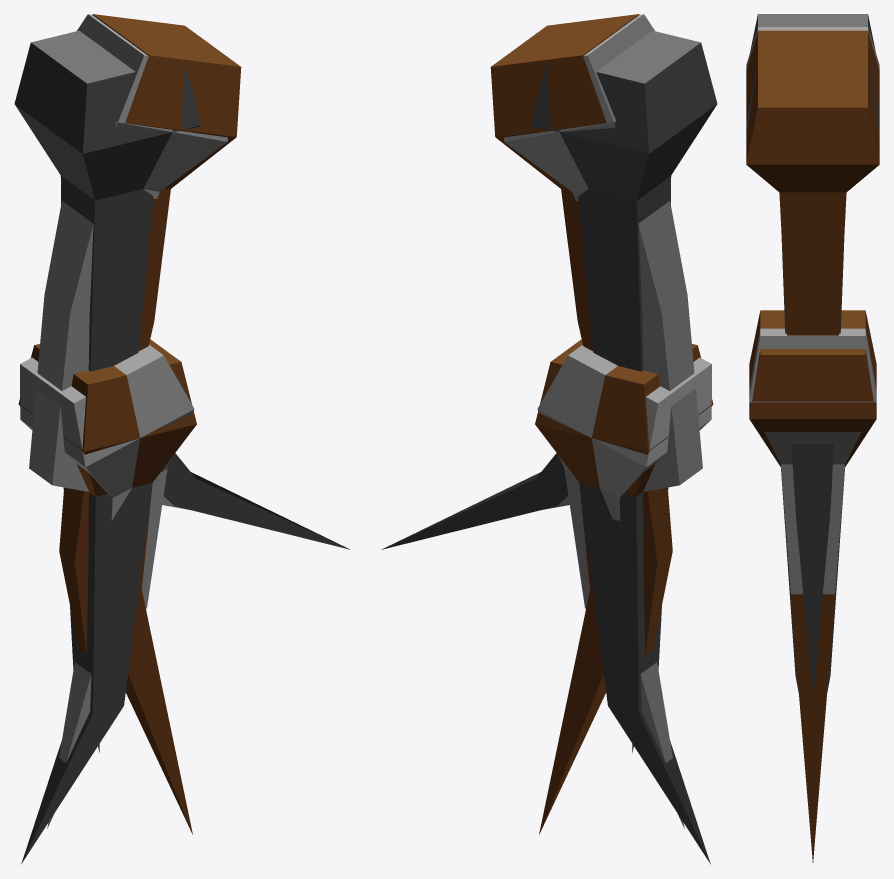
File: Snag_G.fbx
3 views of the same model, side by side, from view 1: azimuth 30°, elevation 25°; view 2: azimuth 150°, elevation 25°; view 3: azimuth 270°, elevation 25° (orthographic). The views are drawn at different scales.
Visible parts, largest first — view 1: Snag_black_02 (2), Snag_gold_02 (2), Snag_iron_02 (2), Snag_black_01, Snag_iron_01 (2), Snag_gold_01; view 2: Snag_black_02 (2), Snag_gold_02 (2), Snag_iron_02 (2), Snag_black_01, Snag_iron_01 (2), Snag_gold_01; view 3: Snag_gold_02 (2), Snag_gold_01, Snag_black_02 (2), Snag_iron_01 (2), Snag_black_01, Snag_iron_02 (2).
Boxes of the visible parts, x1,y1,x2,y2 form: Snag_black_02 (2): [14, 30, 350, 549]; Snag_gold_02 (2): [59, 14, 241, 752]; Snag_iron_02 (2): [29, 14, 227, 509]; Snag_black_01: [21, 483, 152, 864]; Snag_iron_01 (2): [20, 345, 194, 828]; Snag_gold_01: [18, 339, 196, 834]; Snag_black_02 (2): [381, 30, 717, 549]; Snag_gold_02 (2): [490, 14, 672, 752]; Snag_iron_02 (2): [504, 14, 702, 509]; Snag_black_01: [579, 483, 710, 864]; Snag_iron_01 (2): [537, 345, 711, 828]; Snag_gold_01: [535, 339, 713, 834]; Snag_gold_02 (2): [746, 30, 879, 335]; Snag_gold_01: [749, 310, 876, 862]; Snag_black_02 (2): [746, 14, 879, 696]; Snag_iron_01 (2): [749, 328, 876, 594]; Snag_black_01: [781, 480, 844, 691]; Snag_iron_02 (2): [746, 27, 879, 69].
Bounding box in the file's own units: 12.97 × 30.75 × 4.64.
